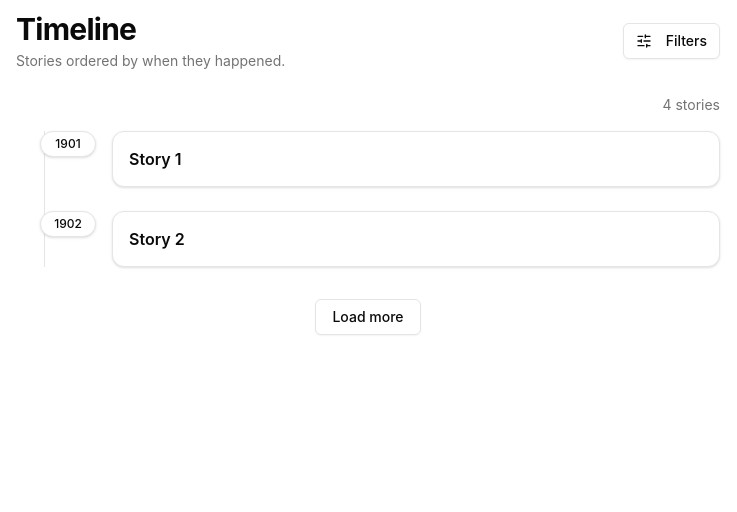
it: TimelinePage › Load more button appends next page results
Check: the heading "Story 1" is shown, box x1=129 y1=149 x2=182 y2=169
Click the button "Load more": (368, 317) x1=315 y1=299 x2=420 y2=335
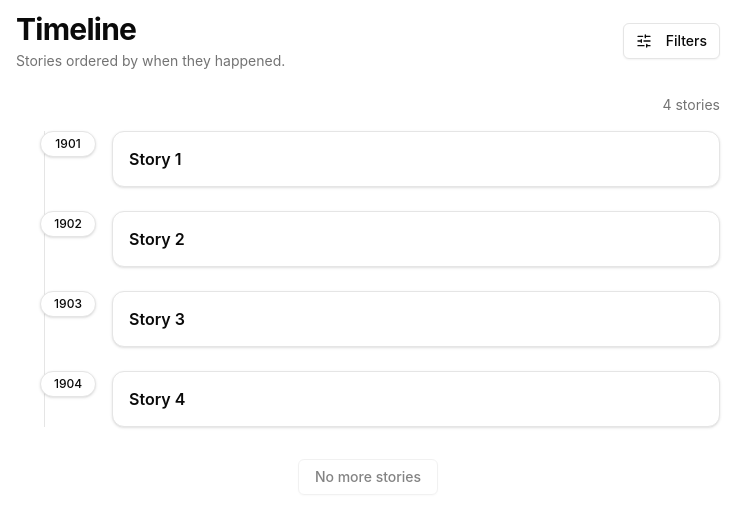
Check: the heading "Story 1" is shown, box x1=129 y1=149 x2=182 y2=169
Check: the heading "Story 3" is shown, box x1=129 y1=309 x2=185 y2=329
